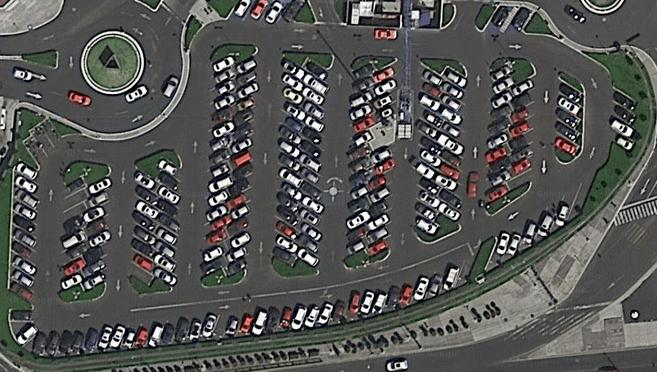parkingspot: (9, 255, 478, 359), (483, 177, 596, 275), (199, 55, 239, 279), (292, 56, 332, 270), (221, 53, 259, 277), (272, 54, 309, 267), (344, 61, 378, 260), (411, 61, 447, 235), (432, 65, 468, 223), (7, 157, 41, 308), (482, 63, 516, 205), (151, 156, 184, 289), (129, 167, 163, 287), (505, 71, 537, 191), (79, 173, 111, 293), (59, 175, 91, 292), (364, 140, 396, 257), (553, 77, 583, 157), (21, 116, 64, 168), (225, 0, 309, 26), (368, 59, 399, 125), (609, 85, 638, 153), (482, 5, 517, 33), (502, 5, 533, 34)
